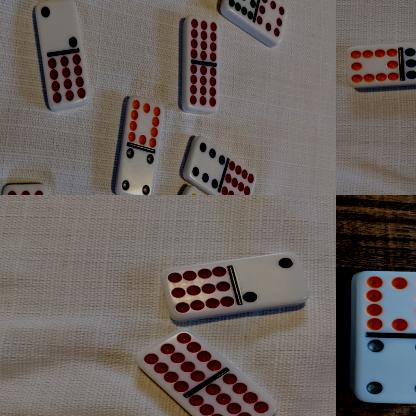pip-10: (356, 269, 416, 334), (348, 42, 401, 86), (128, 95, 165, 146)
pip-11: (228, 0, 258, 20)
pip-12: (138, 327, 222, 393), (162, 262, 238, 320), (190, 373, 278, 416), (48, 54, 88, 107), (186, 63, 219, 109), (188, 16, 219, 61), (222, 159, 257, 195), (3, 183, 46, 195)
pip-2: (239, 251, 310, 308), (36, 0, 81, 52)
pip-4: (351, 335, 416, 401), (117, 146, 157, 195)
pip-6: (191, 136, 225, 190)
pip-8: (256, 0, 288, 41)
pip-9: (403, 42, 416, 84)
